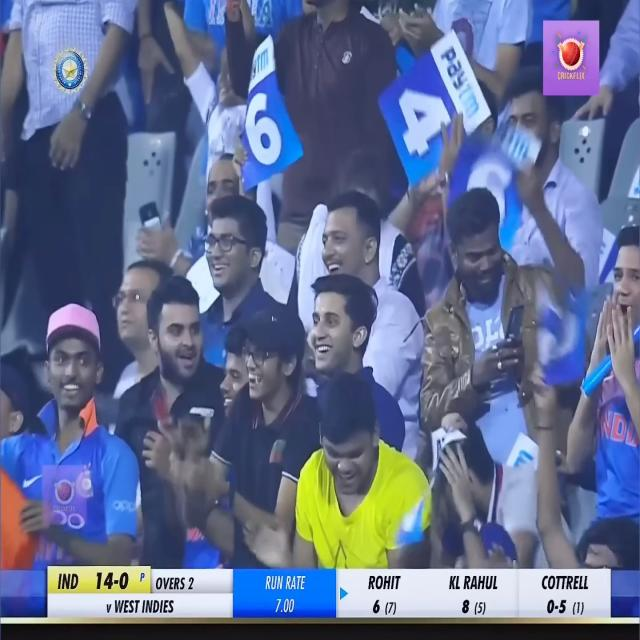fully_visible: (432, 34, 497, 137)
partially_visible: (236, 33, 290, 91)
